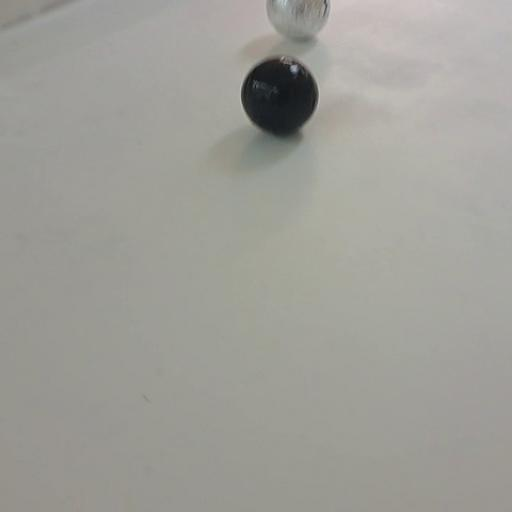alive: (266, 0, 331, 41)
dead: (240, 53, 321, 136)
